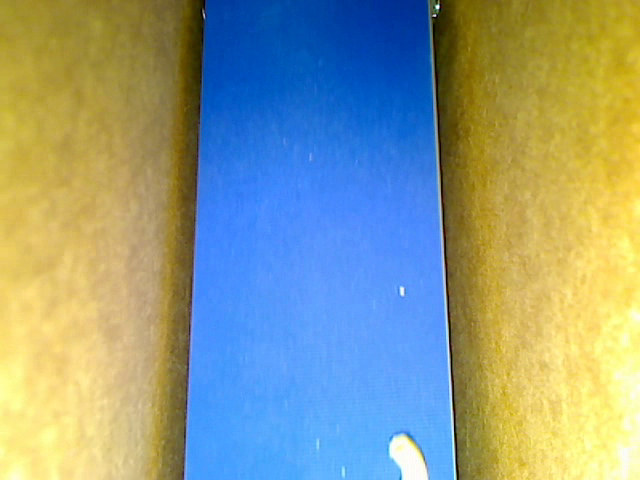elbow: (388, 431, 428, 479)
